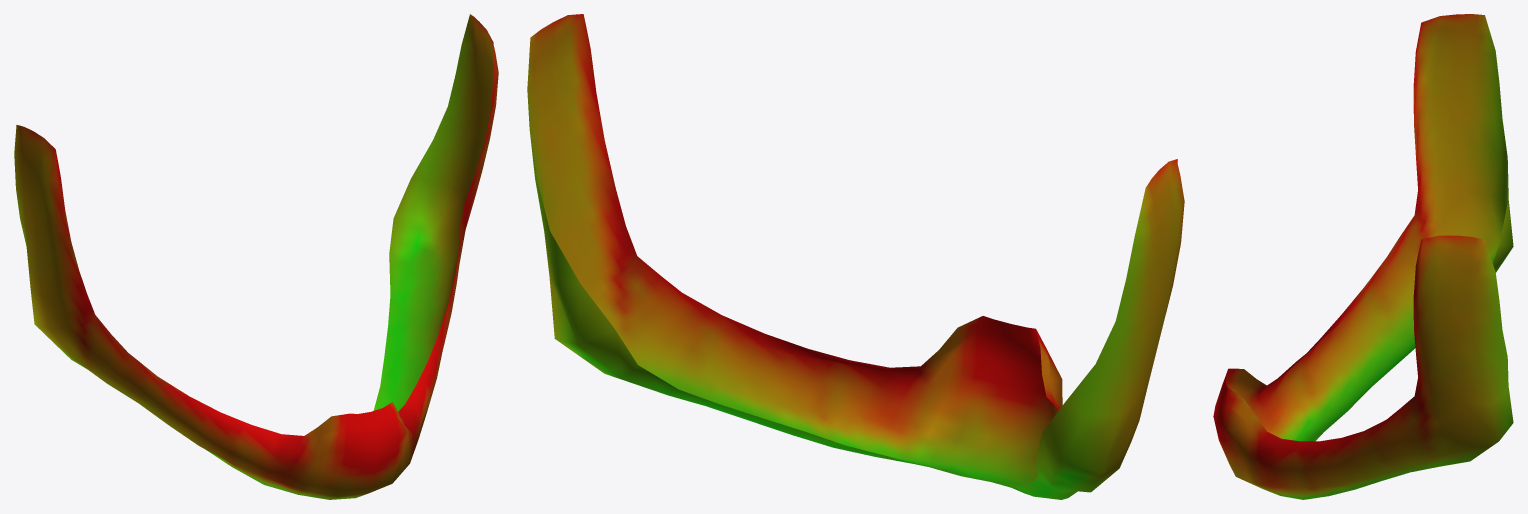
The model's file is LowerFace_ChinStrap.obj.
The picture shows the model from 3 angles, left to right: view 1: azimuth 30°, elevation 25°; view 2: azimuth 150°, elevation 25°; view 3: azimuth 270°, elevation 25°; orthographic projection. The views are drawn at different scales.
Visible parts, largest first — view 1: LowerFace_ChinStrap_0; view 2: LowerFace_ChinStrap_0; view 3: LowerFace_ChinStrap_0.
Boxes of the visible parts, x1,y1,x2,y2 form: LowerFace_ChinStrap_0: (14, 14, 498, 499); LowerFace_ChinStrap_0: (527, 14, 1184, 499); LowerFace_ChinStrap_0: (1213, 14, 1513, 499).
Bounding box in the file's own units: 0.1701 × 0.124 × 0.0952.
1 material, 1 textured.
